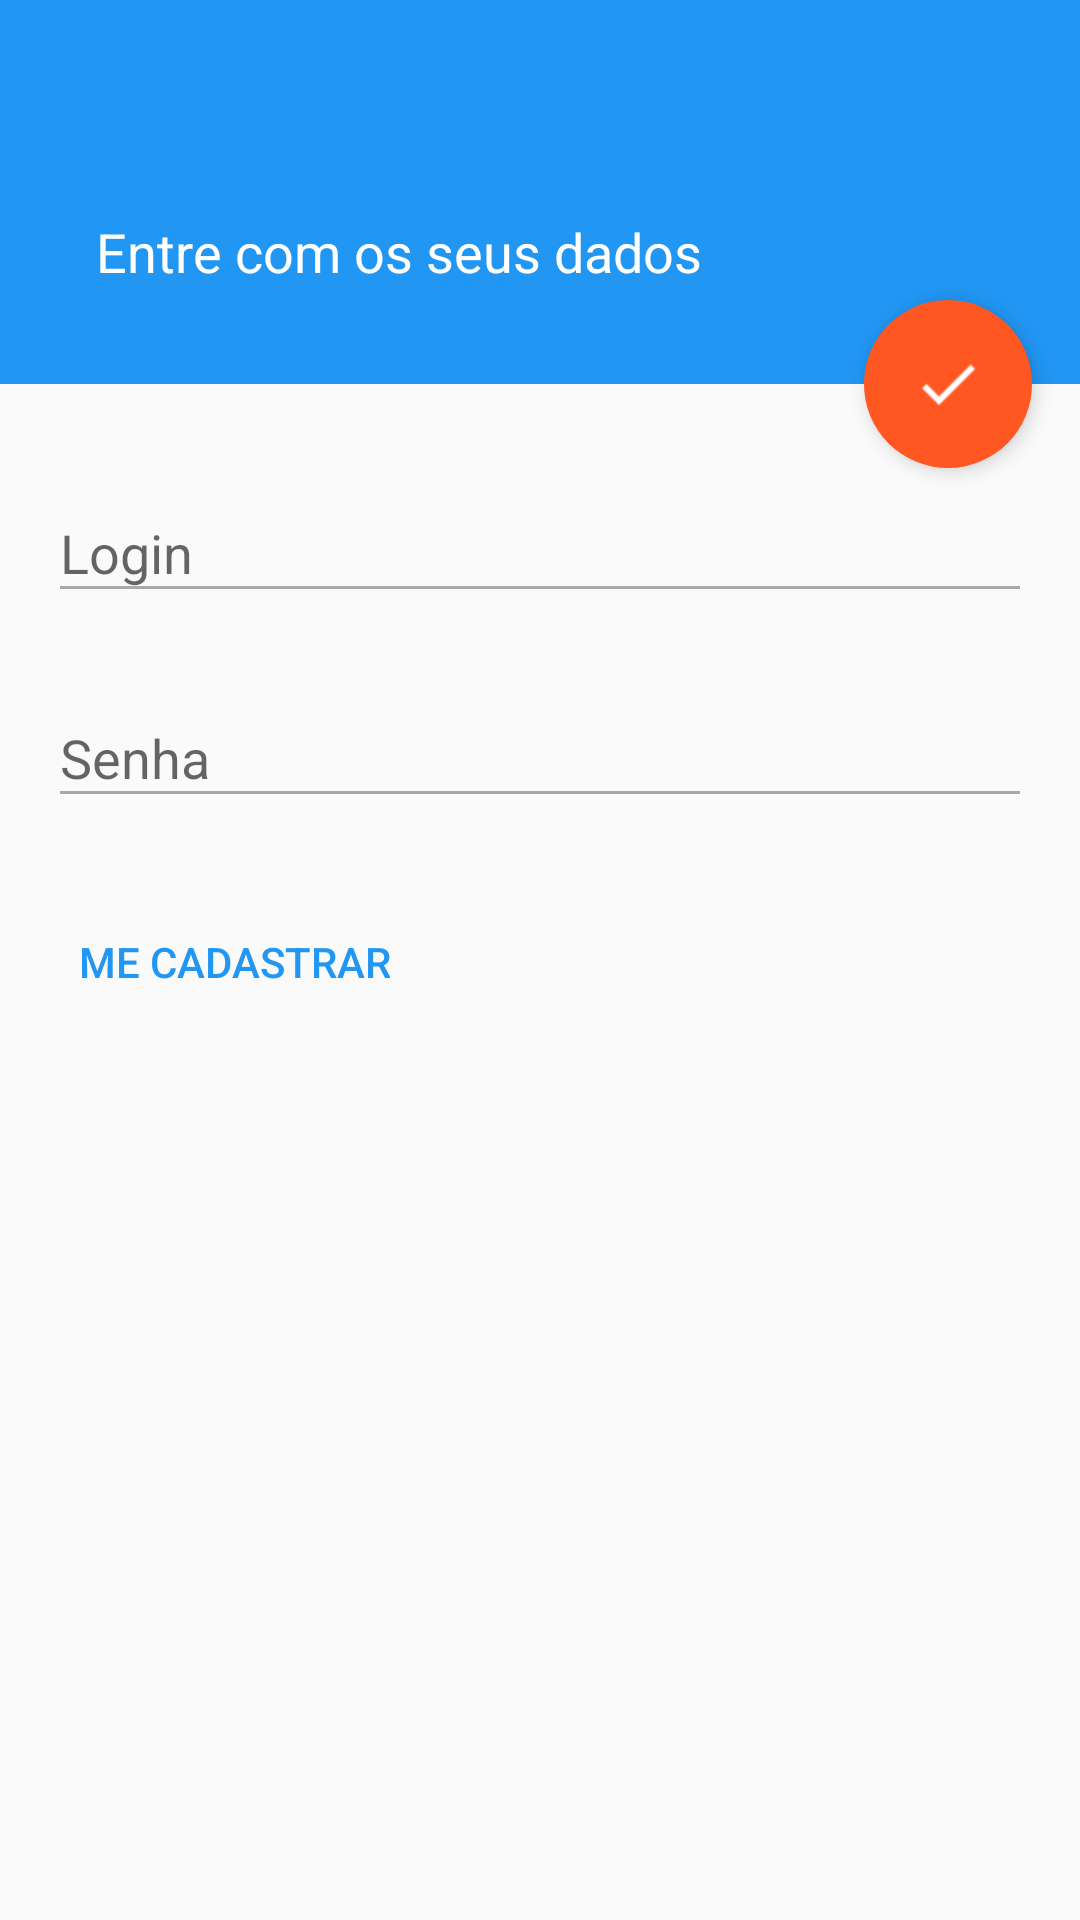

Screen size 1080w x 1920h. Icon name, then its center in pixels as [x,y]:
done: [948,384]
